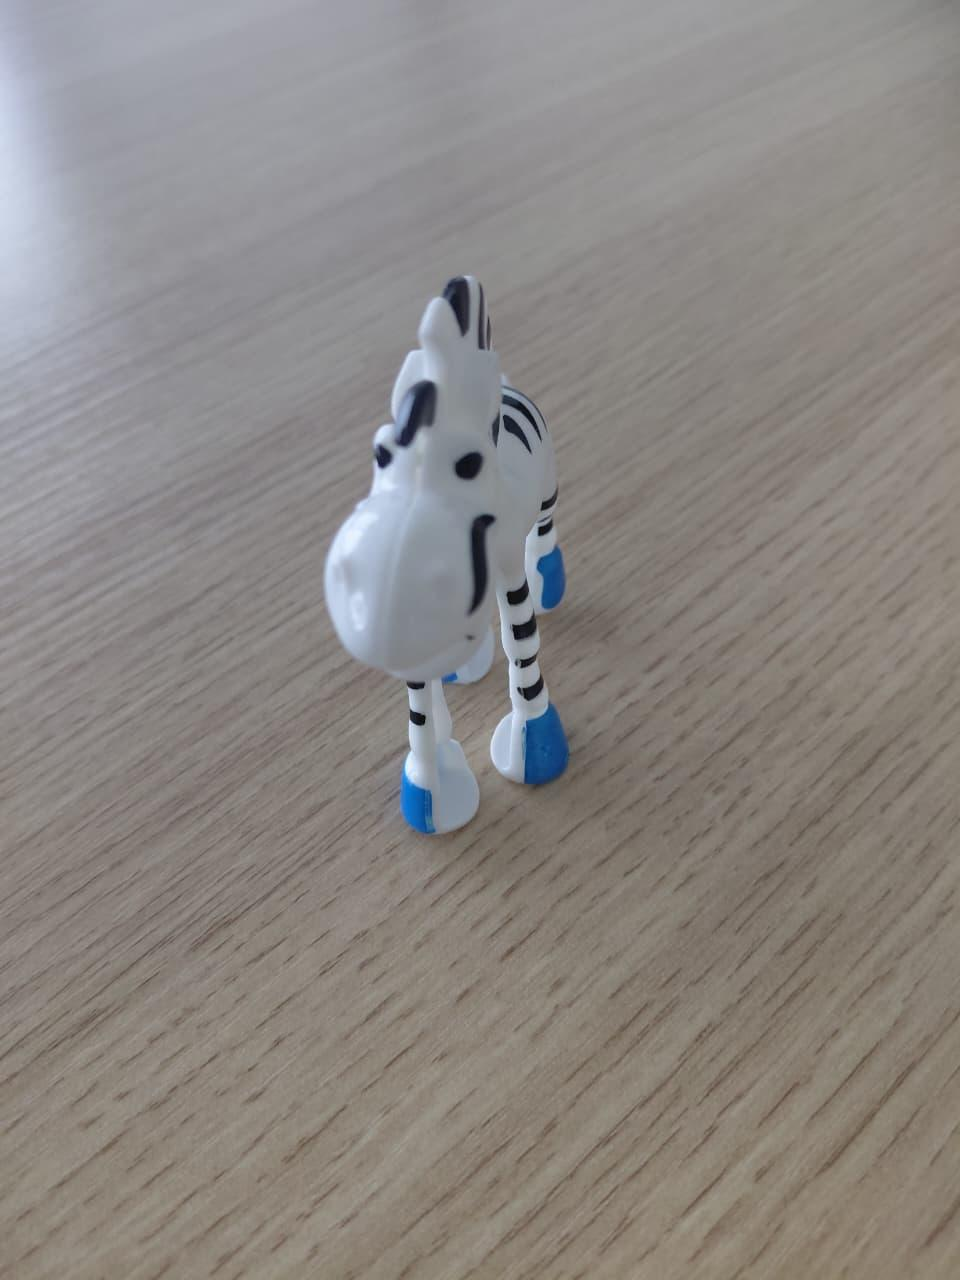zebra: (301, 226, 750, 929)
